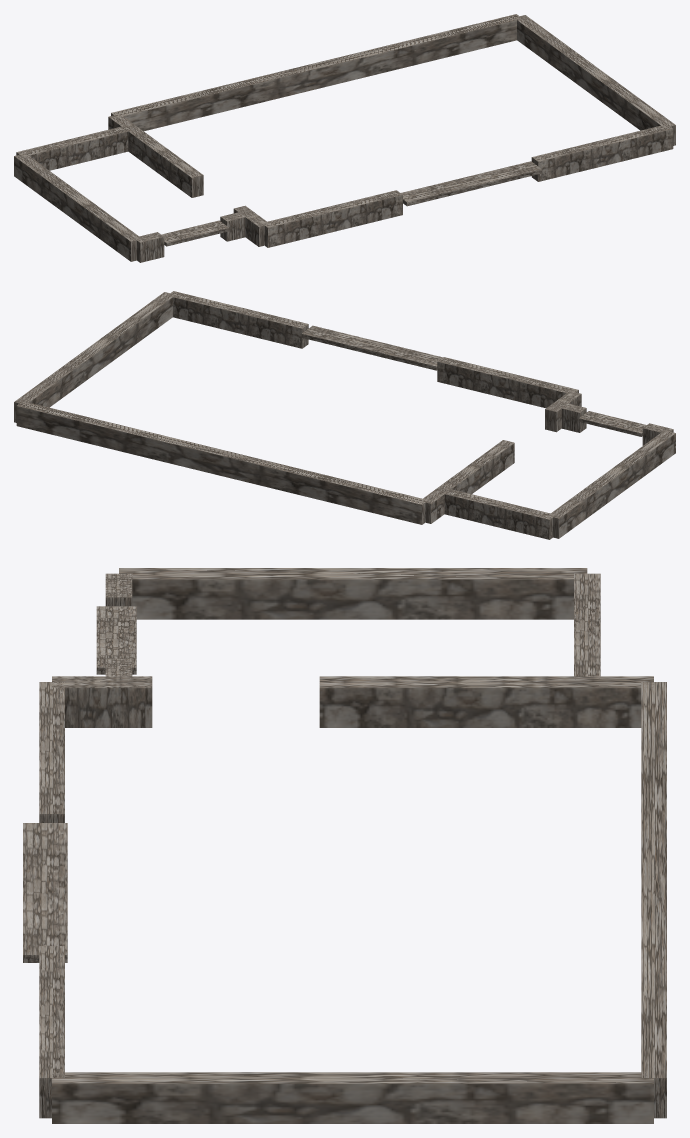
Rendered from BW_StableA01_Foundation.fbx.
The picture shows the model from 3 angles, top to bottom: view 1: azimuth 30°, elevation 25°; view 2: azimuth 150°, elevation 25°; view 3: azimuth 270°, elevation 25°; orthographic projection. The views are drawn at different scales.
Visible parts, largest first — view 1: BW_StableA01_Foundation; view 2: BW_StableA01_Foundation; view 3: BW_StableA01_Foundation.
Part boxes in pixels (<box>): BW_StableA01_Foundation: <box>14,14,675,262</box>; BW_StableA01_Foundation: <box>14,291,675,539</box>; BW_StableA01_Foundation: <box>23,568,666,1123</box>.
Bounding box in the file's own units: 10.94 × 0.4 × 5.78.
